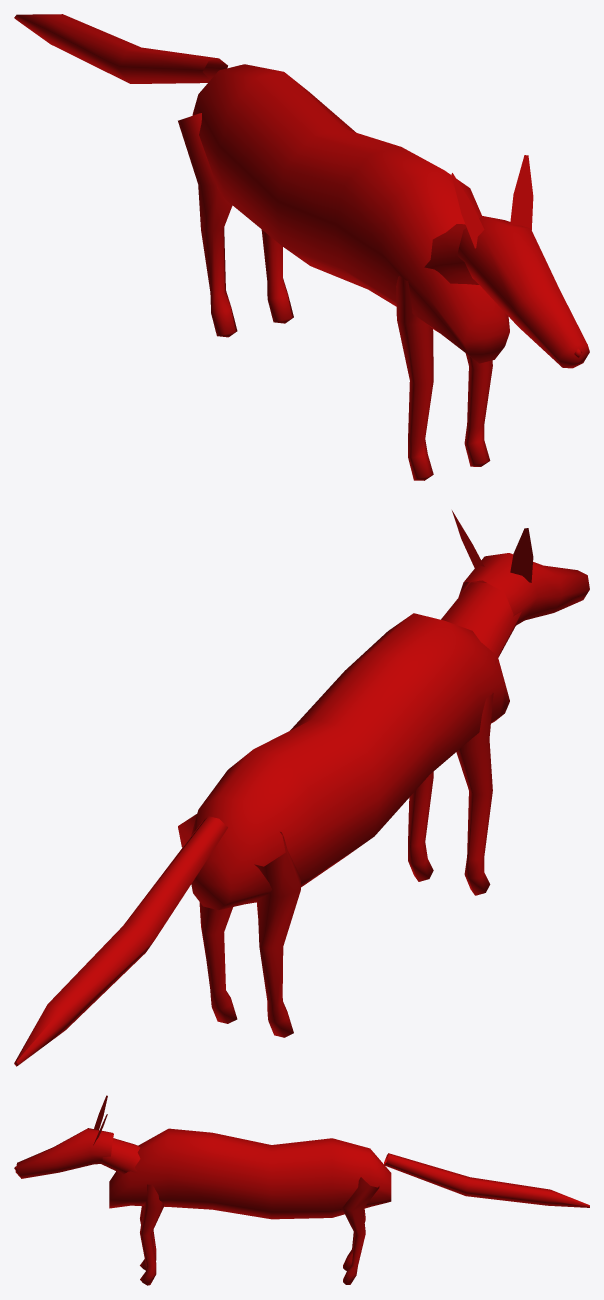
The model's file is fox.glb.
3 renders of one model, top to bottom at view 1: azimuth 30°, elevation 25°; view 2: azimuth 150°, elevation 25°; view 3: azimuth 270°, elevation 25°, orthographic. The views are drawn at different scales.
Visible parts, largest first — view 1: body, head, tail, leg_lh, leg_lf, leg_rf, leg_rh; view 2: body, tail, head, leg_lh, leg_lf, leg_rh, leg_rf; view 3: body, head, tail, leg_rh, leg_rf.
Part boxes in pixels (x1,y1,x2,y2): body: (192, 64, 509, 363); head: (424, 155, 589, 368); tail: (14, 14, 227, 83); leg_lh: (178, 113, 237, 337); leg_lf: (396, 276, 433, 480); leg_rf: (464, 353, 492, 466); leg_rh: (261, 229, 293, 323); body: (191, 613, 509, 910); tail: (14, 816, 227, 1066); head: (441, 510, 589, 664); leg_lh: (254, 831, 300, 1037); leg_lf: (456, 693, 493, 895); leg_rh: (178, 814, 237, 1023); leg_rf: (408, 772, 433, 881); body: (109, 1128, 391, 1219); head: (14, 1095, 140, 1178); tail: (384, 1153, 589, 1207); leg_rh: (342, 1177, 379, 1284); leg_rf: (140, 1184, 163, 1285).
Size of the model in its own units: 0.1641 by 0.4922 by 1.48.
